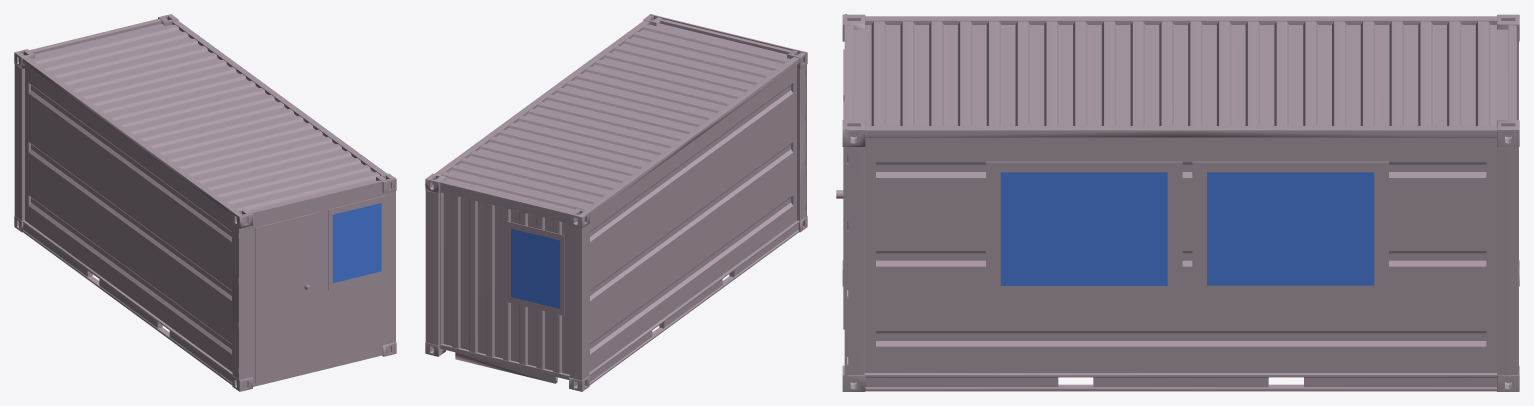
The picture shows the model from 3 angles, left to right: view 1: azimuth 30°, elevation 25°; view 2: azimuth 150°, elevation 25°; view 3: azimuth 270°, elevation 25°; orthographic projection. The views are drawn at different scales.
Visible parts, largest first — view 1: Container, Cube, Cube.010, Cube.003, Cube.002; view 2: Container, Cube.009, Cube.006, Cube; view 3: Container, Cube.008, Cube.007, Cube.005, Cube.004, Cube.
Part boxes in pixels (x1=…): Container: x1=14, y1=14, x2=396, y2=391; Cube: x1=238, y1=177, x2=395, y2=388; Cube.010: x1=332, y1=203, x2=381, y2=282; Cube.003: x1=255, y1=212, x2=319, y2=383; Cube.002: x1=328, y1=195, x2=385, y2=290; Container: x1=425, y1=14, x2=807, y2=391; Cube.009: x1=511, y1=228, x2=559, y2=308; Cube.006: x1=506, y1=221, x2=564, y2=315; Cube: x1=649, y1=14, x2=806, y2=216; Container: x1=842, y1=14, x2=1519, y2=391; Cube.008: x1=1207, y1=172, x2=1374, y2=285; Cube.007: x1=1000, y1=172, x2=1167, y2=285; Cube.005: x1=1192, y1=161, x2=1388, y2=295; Cube.004: x1=986, y1=161, x2=1182, y2=295; Cube: x1=844, y1=14, x2=847, y2=375.
Bounding box in the file's own units: 2.44 × 6.11 × 2.6.
